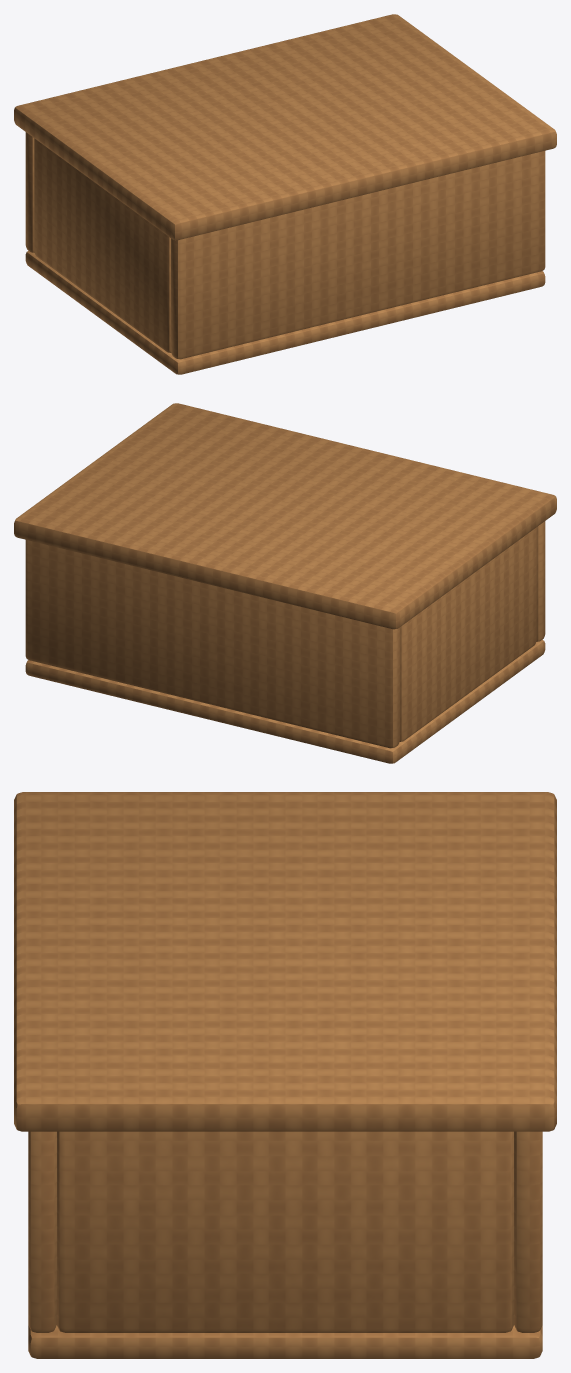
The model's file is SM_Basket_Wicker_Rect.fbx.
3 views of the same model, one above another, from view 1: azimuth 30°, elevation 25°; view 2: azimuth 150°, elevation 25°; view 3: azimuth 270°, elevation 25° (orthographic). The views are drawn at different scales.
Visible parts, largest first — view 1: SM_Basket_Wicker_Rect; view 2: SM_Basket_Wicker_Rect; view 3: SM_Basket_Wicker_Rect.
Boxes of the visible parts, x1,y1,x2,y2 form: SM_Basket_Wicker_Rect: (14, 14, 556, 374); SM_Basket_Wicker_Rect: (14, 403, 556, 763); SM_Basket_Wicker_Rect: (14, 792, 556, 1358).
Size of what is drawn, in the model's own units: 0.52 by 0.205 by 0.38.
Materials: 1 (1 with a texture image).
